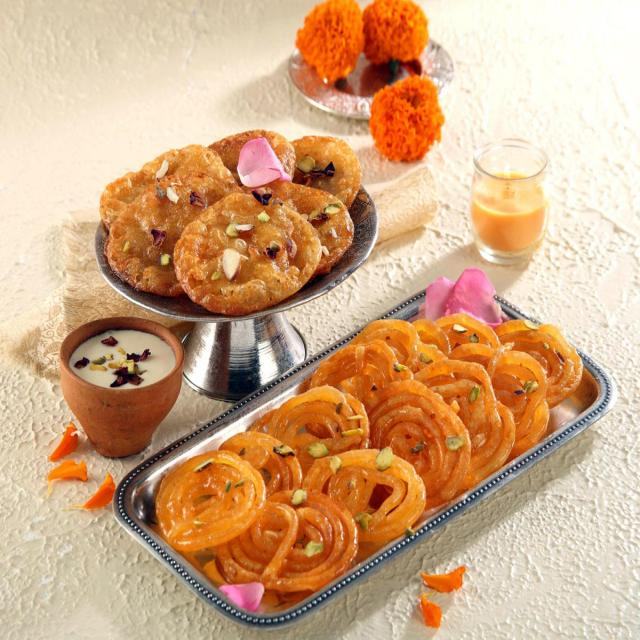jalebi: (105, 140, 355, 315), (316, 320, 580, 462), (152, 449, 396, 599)
